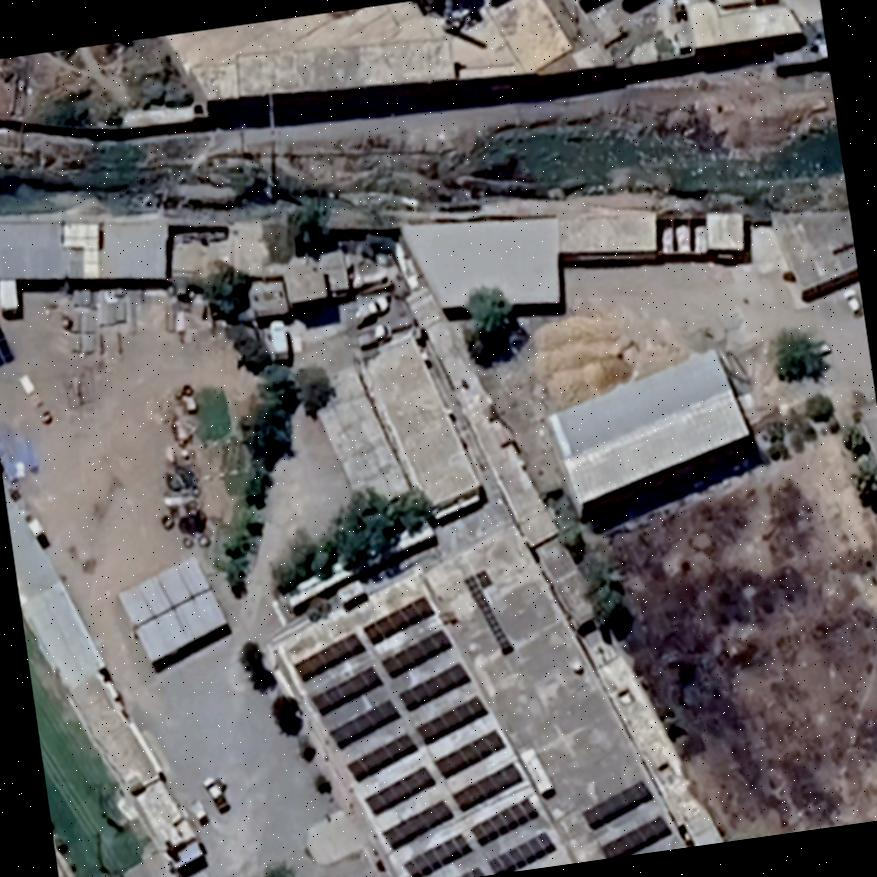Solarpanel: (340, 685, 495, 789), (354, 725, 515, 824), (319, 658, 478, 756), (376, 757, 535, 854), (305, 626, 463, 723), (287, 592, 446, 688), (395, 792, 540, 877), (449, 825, 566, 877), (574, 775, 662, 832), (590, 808, 679, 858)
